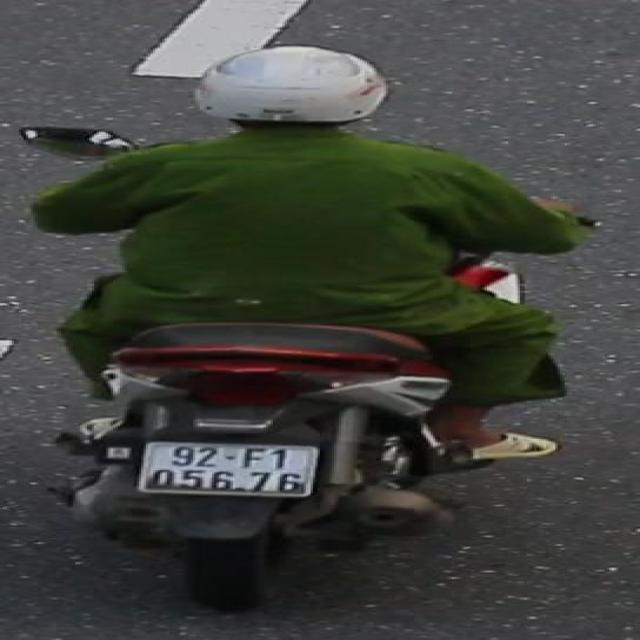LP: (136, 438, 328, 502)
helmet: (181, 40, 393, 151)
